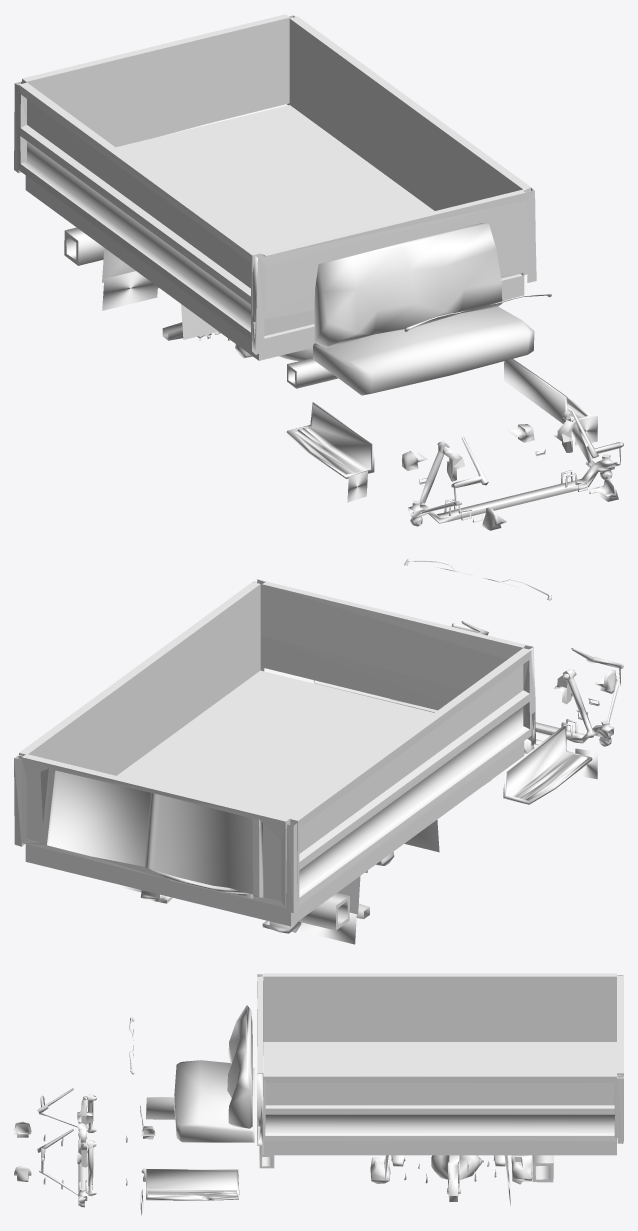
The picture shows the model from 3 angles, top to bottom: view 1: azimuth 30°, elevation 25°; view 2: azimuth 150°, elevation 25°; view 3: azimuth 270°, elevation 25°; orthographic projection. The views are drawn at different scales.
Size of the model in its own units: 2.45 by 1.73 by 6.09.
Materials: 1 (1 with a texture image).
